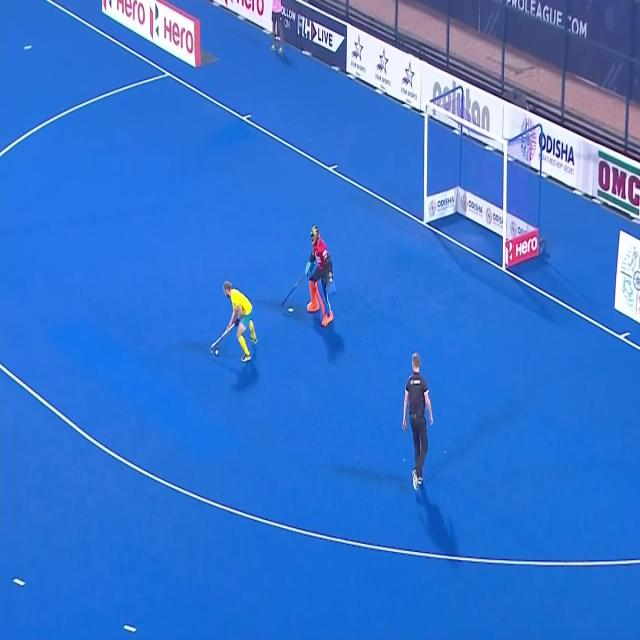ball: (213, 344, 221, 358)
